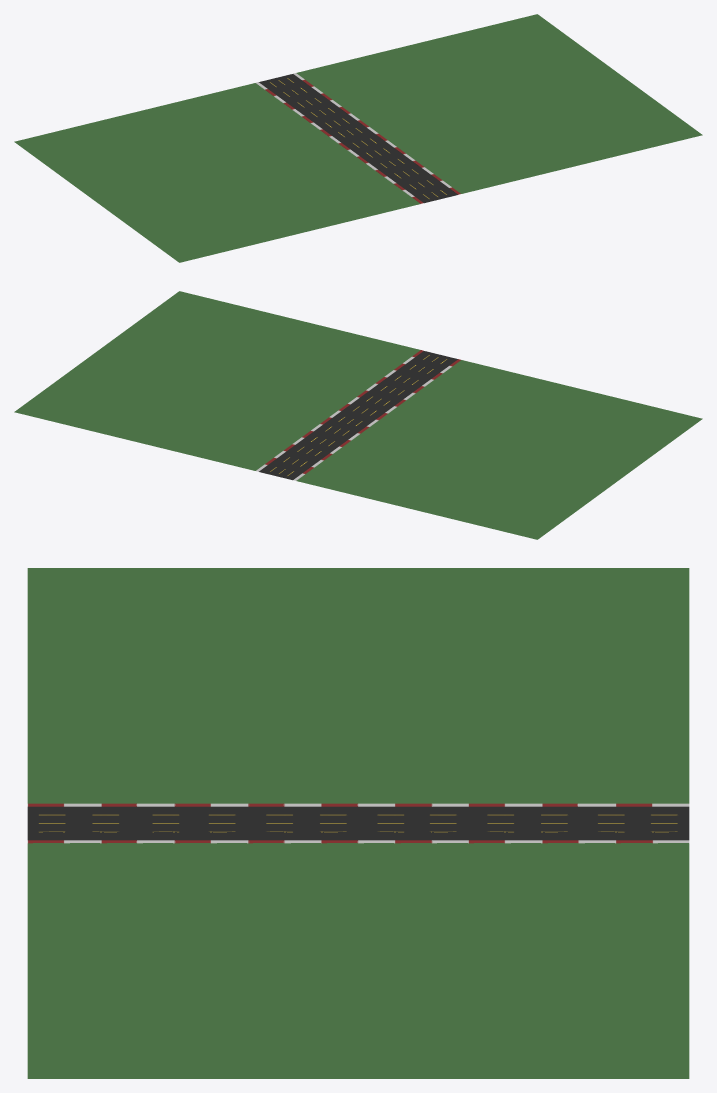
The model's file is pista_bosque.fbx.
3 renders of one model, top to bottom at view 1: azimuth 30°, elevation 25°; view 2: azimuth 150°, elevation 25°; view 3: azimuth 270°, elevation 25°, orthographic. The views are drawn at different scales.
Visible parts, largest first — view 1: pista_bosque:Mesh; view 2: pista_bosque:Mesh; view 3: pista_bosque:Mesh.
Part boxes in pixels (left/top/right/bottom): pista_bosque:Mesh: left=14, top=14, right=702, bottom=262; pista_bosque:Mesh: left=14, top=291, right=702, bottom=539; pista_bosque:Mesh: left=27, top=568, right=689, bottom=1078.
Bounding box in the file's own units: 2703 × 0.7204 × 1479.
1 material, 1 textured.
